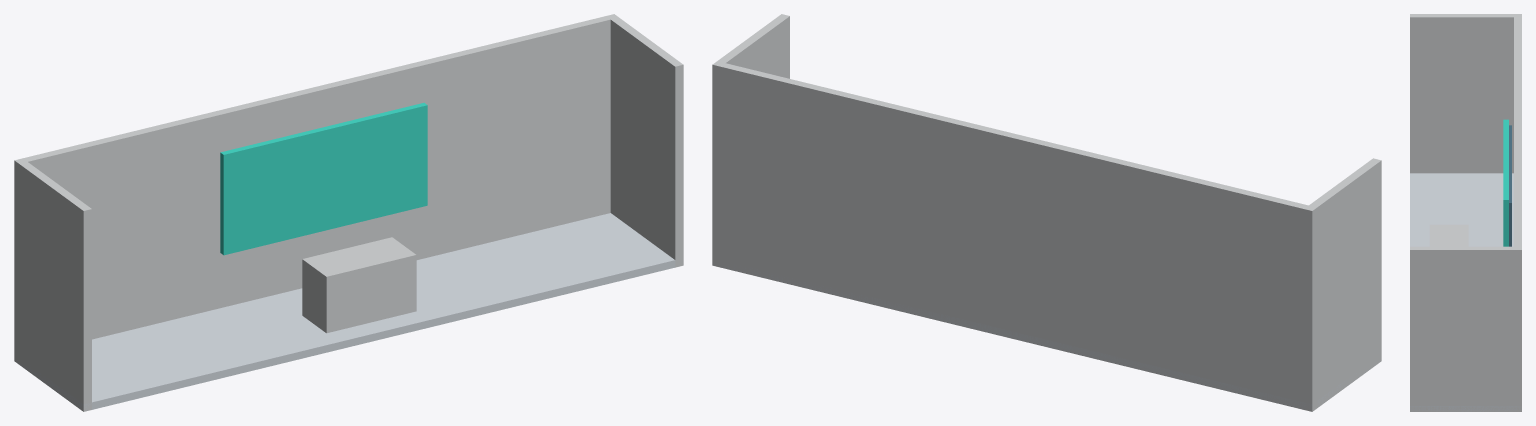
The picture shows the model from 3 angles, left to right: view 1: azimuth 30°, elevation 25°; view 2: azimuth 150°, elevation 25°; view 3: azimuth 270°, elevation 25°; orthographic projection. The views are drawn at different scales.
Visible parts, largest first — view 1: Exhibition Booth Concept; view 2: Exhibition Booth Concept; view 3: Exhibition Booth Concept.
Part boxes in pixels (left/top/right/bottom): Exhibition Booth Concept: left=14, top=14, right=683, bottom=411; Exhibition Booth Concept: left=712, top=14, right=1381, bottom=411; Exhibition Booth Concept: left=1410, top=14, right=1521, bottom=411.
Size of the model in its own units: 10 by 3.2 by 2.
